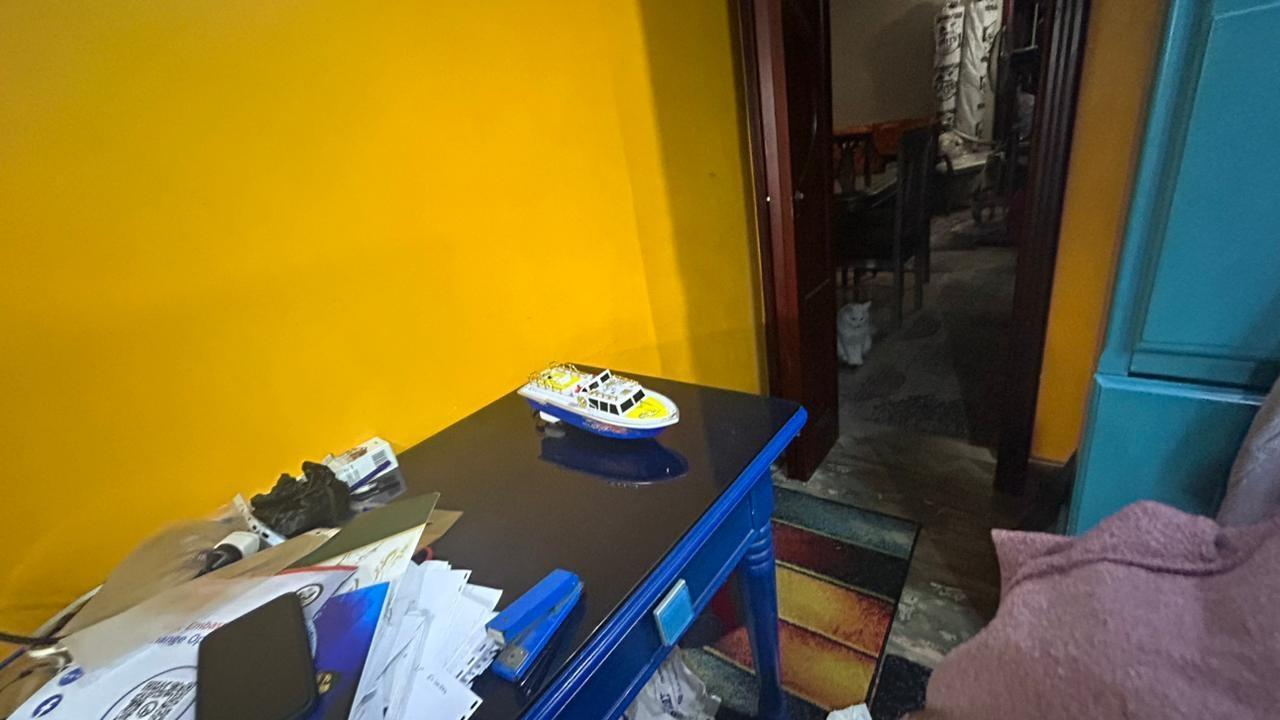Boat: (515, 356, 683, 450)
